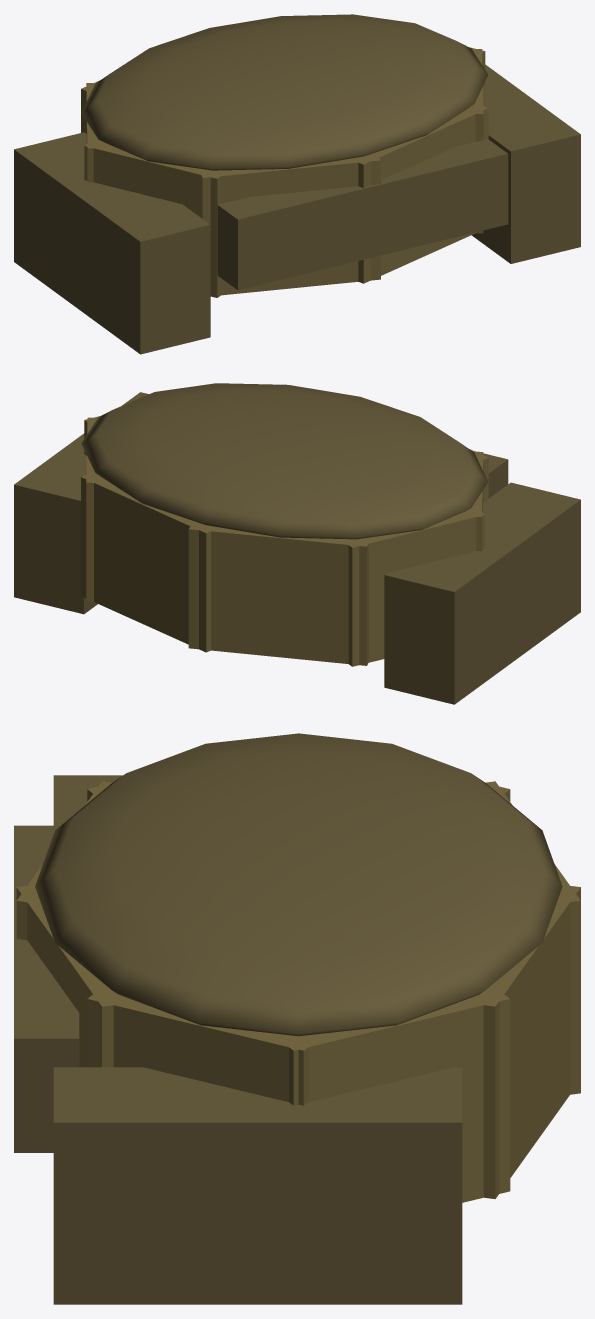
The model's file is CMU3DCMHeadCapSPPUshankaWorldCloud.glb.
3 views of the same model, one above another, from view 1: azimuth 30°, elevation 25°; view 2: azimuth 150°, elevation 25°; view 3: azimuth 270°, elevation 25° (orthographic). The views are drawn at different scales.
Parts seen in each view (by area): view 1: ushanka soft connected roof, left hanging open-sided earflap, wide frontal fur facing, right hanging open-sided earflap, ushanka open cap band facet 05, ushanka open cap band facet 04, ushanka open cap band facet 06, ushanka open cap band facet 03, ushanka open cap band facet 07; view 2: ushanka soft connected roof, left hanging open-sided earflap, ushanka open cap band facet 02, ushanka open cap band facet 01, right hanging open-sided earflap, ushanka open cap band facet 03, ushanka open cap band facet 00, wide frontal fur facing, ushanka open cap band facet 04; view 3: ushanka soft connected roof, right hanging open-sided earflap, ushanka open cap band facet 00, ushanka open cap band facet 01, ushanka open cap band facet 07, wide frontal fur facing, ushanka open cap band facet 06, ushanka open cap band facet 02, left hanging open-sided earflap, ushanka open cap band facet 05.
Boxes of the visible parts, <box> form: ushanka soft connected roof: <box>81,14,488,170</box>; left hanging open-sided earflap: <box>14,132,210,354</box>; wide frontal fur facing: <box>217,139,508,290</box>; right hanging open-sided earflap: <box>471,64,580,263</box>; ushanka open cap band facet 05: <box>198,152,380,295</box>; ushanka open cap band facet 04: <box>84,144,228,297</box>; ushanka open cap band facet 06: <box>350,103,488,283</box>; ushanka open cap band facet 03: <box>86,83,116,182</box>; ushanka open cap band facet 07: <box>460,49,483,233</box>; ushanka soft connected roof: <box>81,383,488,539</box>; left hanging open-sided earflap: <box>384,482,580,704</box>; ushanka open cap band facet 02: <box>188,522,371,665</box>; ushanka open cap band facet 01: <box>81,475,219,652</box>; right hanging open-sided earflap: <box>14,392,148,614</box>; ushanka open cap band facet 03: <box>341,506,485,666</box>; ushanka open cap band facet 00: <box>86,417,109,601</box>; wide frontal fur facing: <box>475,451,508,498</box>; ushanka open cap band facet 04: <box>453,451,483,550</box>; ushanka soft connected roof: <box>35,733,562,1036</box>; right hanging open-sided earflap: <box>53,1067,462,1304</box>; ushanka open cap band facet 00: <box>270,985,510,1202</box>; ushanka open cap band facet 01: <box>483,886,580,1199</box>; ushanka open cap band facet 07: <box>87,985,321,1105</box>; wide frontal fur facing: <box>14,825,79,1152</box>; ushanka open cap band facet 06: <box>16,886,134,1067</box>; ushanka open cap band facet 02: <box>485,781,580,1094</box>; left hanging open-sided earflap: <box>53,775,122,825</box>; ushanka open cap band facet 05: <box>16,781,111,940</box>.
Bounding box in the file's own units: 0.352 × 0.138 × 0.2429.
